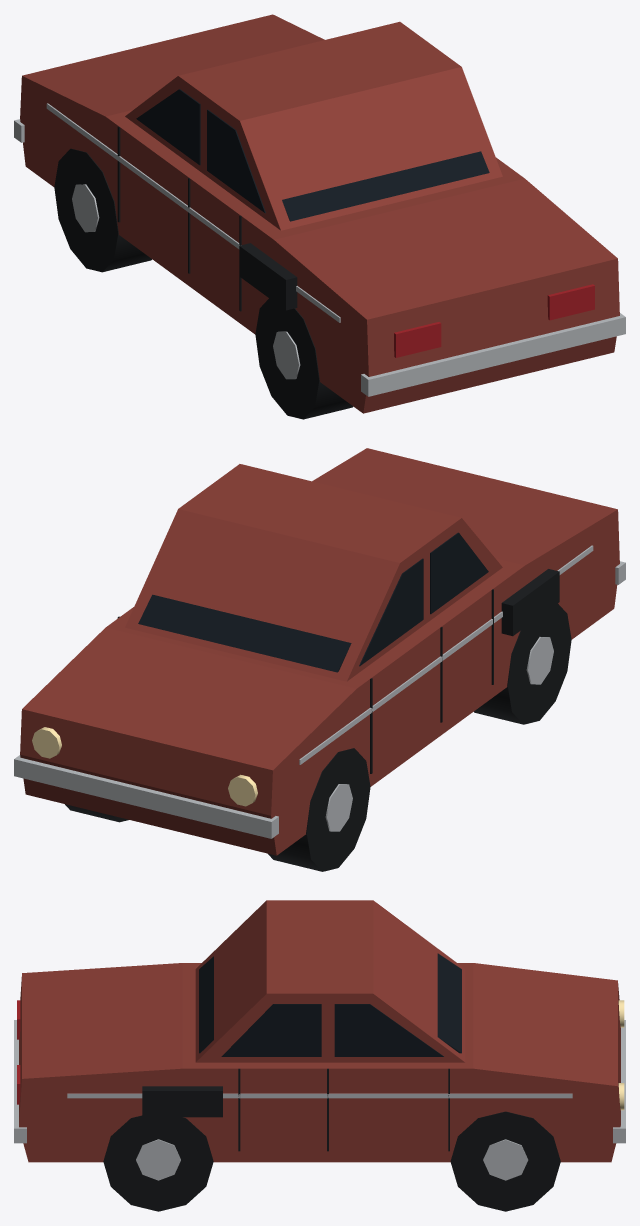
File: car-zaz.glb
3 views of the same model, one above another, from view 1: azimuth 30°, elevation 25°; view 2: azimuth 150°, elevation 25°; view 3: azimuth 270°, elevation 25° (orthographic). The views are drawn at different scales.
Parts seen in each view (by area): view 1: 01_paint0, 00_#1e2022_noshadow_r320, 02_#1a2026_noshadow_r320, 03_#b8bcc0_noshadow_r110, 05_#a3262c_noshadow_r110; view 2: 01_paint0, 00_#1e2022_noshadow_r320, 02_#1a2026_noshadow_r320, 03_#b8bcc0_noshadow_r110, 04_#ffe9b0_noshadow; view 3: 01_paint0, 00_#1e2022_noshadow_r320, 02_#1a2026_noshadow_r320, 03_#b8bcc0_noshadow_r110.
Part boxes in pixels (left/top/right/bottom): 01_paint0: left=20, top=14, right=619, bottom=413; 00_#1e2022_noshadow_r320: left=54, top=126, right=353, bottom=419; 02_#1a2026_noshadow_r320: left=136, top=89, right=489, bottom=221; 03_#b8bcc0_noshadow_r110: left=14, top=103, right=625, bottom=396; 05_#a3262c_noshadow_r110: left=394, top=284, right=594, bottom=357; 01_paint0: left=20, top=448, right=619, bottom=855; 00_#1e2022_noshadow_r320: left=65, top=569, right=571, bottom=871; 02_#1a2026_noshadow_r320: left=138, top=532, right=488, bottom=672; 03_#b8bcc0_noshadow_r110: left=14, top=545, right=625, bottom=838; 04_#ffe9b0_noshadow: left=32, top=727, right=257, bottom=806; 01_paint0: left=19, top=900, right=620, bottom=1162; 00_#1e2022_noshadow_r320: left=103, top=1068, right=560, bottom=1211; 02_#1a2026_noshadow_r320: left=199, top=953, right=461, bottom=1056; 03_#b8bcc0_noshadow_r110: left=14, top=1020, right=625, bottom=1180.
Bounding box in the file's own units: 1.69 × 1.45 × 3.79.
